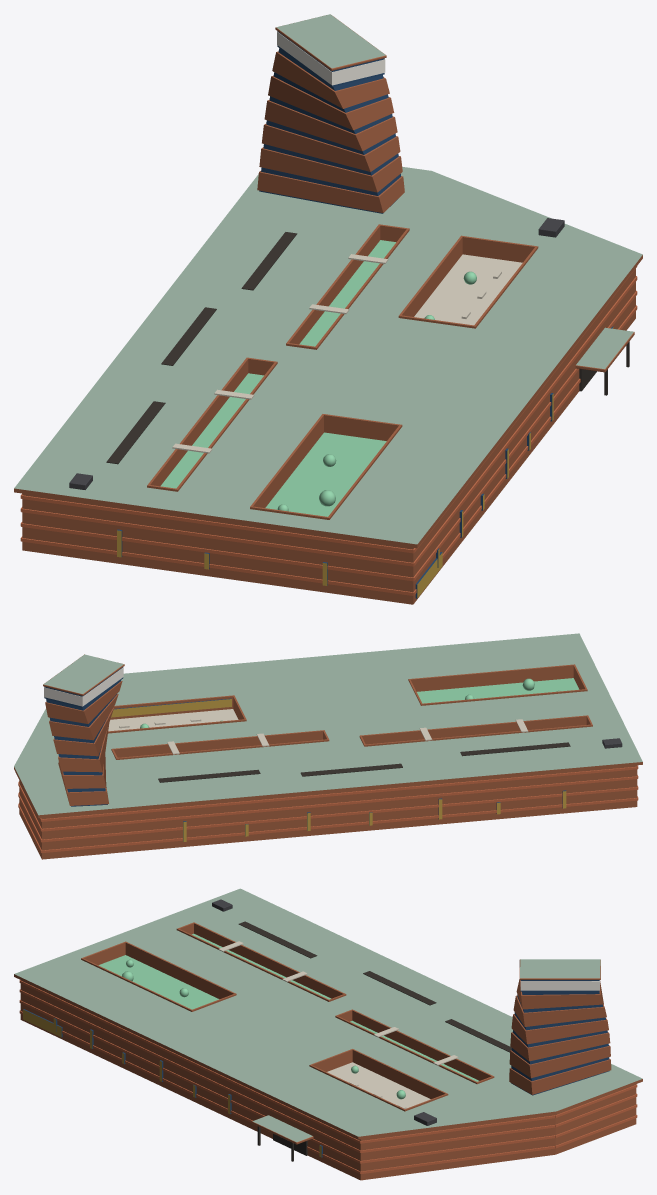
The model's file is de-young.glb.
3 renders of one model, top to bottom at view 1: azimuth 30°, elevation 25°; view 2: azimuth 150°, elevation 25°; view 3: azimuth 270°, elevation 25°, orthographic. The views are drawn at different scales.
Visible parts, largest first — view 1: roof_top, band_shell, tower_shaft, roof_edge, court_west_floor, court_entry_floor, lantern_cap, canyon_a_floor, canyon_b_floor, band_2_4, band_3_4, band_1_4 (+15 smaller); view 2: roof_top, band_shell, roof_edge, tower_shaft, court_west_wall_s, canyon_a_wall_s, band_2_3, band_3_3, band_1_3, canyon_b_wall_s, band_0_3, court_west_floor (+12 smaller); view 3: roof_top, band_shell, tower_shaft, roof_edge, court_west_floor, lantern_cap, court_entry_floor, canyon_a_wall_n, canyon_b_wall_n, court_west_wall_n, court_entry_wall_n, band_3_0 (+17 smaller).
Part boxes in pixels (x1=…): roof_top: x1=22, y1=169, x2=635, y2=540; band_shell: x1=22, y1=268, x2=635, y2=604; tower_shaft: x1=257, y1=48, x2=404, y2=213; roof_edge: x1=14, y1=167, x2=642, y2=548; court_west_floor: x1=265, y1=432, x2=386, y2=516; court_entry_floor: x1=414, y1=254, x2=522, y2=325; lantern_cap: x1=275, y1=14, x2=386, y2=70; canyon_a_floor: x1=160, y1=373, x2=263, y2=488; canyon_b_floor: x1=299, y1=240, x2=395, y2=346; band_2_4: x1=21, y1=508, x2=413, y2=566; band_3_4: x1=21, y1=495, x2=413, y2=553; band_1_4: x1=21, y1=523, x2=413, y2=581; roof_top: x1=19, y1=636, x2=636, y2=812; band_shell: x1=19, y1=765, x2=637, y2=859; roof_edge: x1=14, y1=633, x2=642, y2=817; tower_shaft: x1=45, y1=680, x2=122, y2=806; court_west_wall_s: x1=408, y1=664, x2=574, y2=691; canyon_a_wall_s: x1=359, y1=715, x2=588, y2=744; band_2_3: x1=41, y1=776, x2=637, y2=831; band_3_3: x1=41, y1=766, x2=637, y2=821; band_1_3: x1=41, y1=787, x2=637, y2=842; canyon_b_wall_s: x1=111, y1=730, x2=324, y2=757; band_0_3: x1=41, y1=798, x2=637, y2=852; court_west_floor: x1=417, y1=678, x2=579, y2=703; roof_top: x1=21, y1=891, x2=635, y2=1134; band_shell: x1=20, y1=980, x2=636, y2=1180; tower_shaft: x1=509, y1=979, x2=611, y2=1095; roof_edge: x1=14, y1=888, x2=642, y2=1139; court_west_floor: x1=98, y1=955, x2=219, y2=1009; lantern_cap: x1=519, y1=959, x2=600, y2=979; court_entry_floor: x1=327, y1=1062, x2=430, y2=1108; canyon_a_wall_n: x1=193, y1=922, x2=346, y2=998; canyon_b_wall_n: x1=351, y1=1009, x2=494, y2=1080; court_west_wall_n: x1=125, y1=941, x2=236, y2=999; court_entry_wall_n: x1=352, y1=1049, x2=448, y2=1098; band_3_0: x1=19, y1=980, x2=360, y2=1143.
Size of the model in its own units: 152 by 43.9 by 163.
